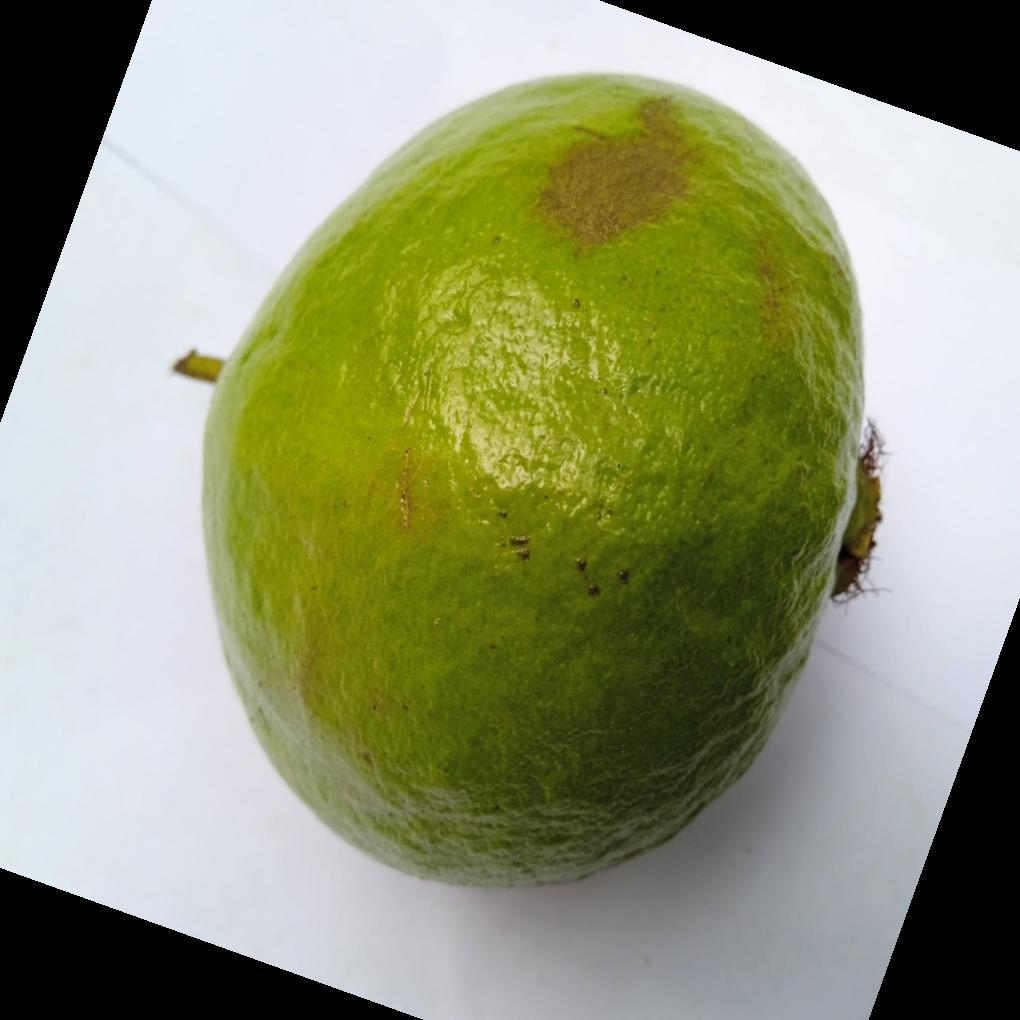FreshGuava: (199, 72, 881, 894)
